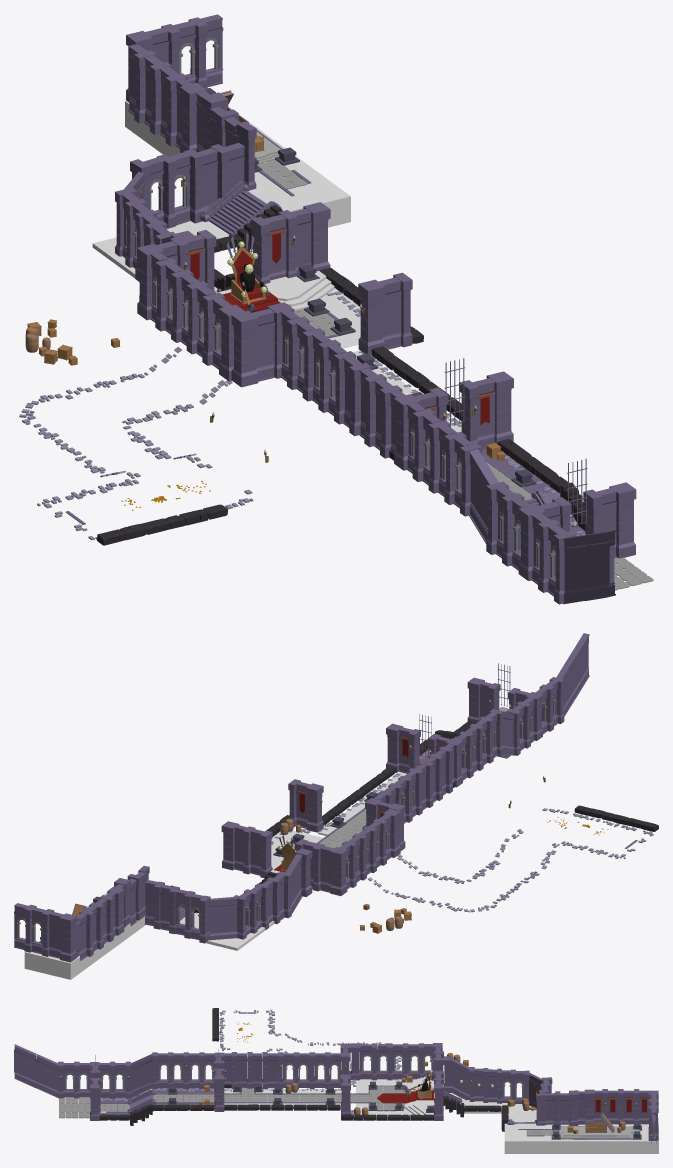
File: no_stairs_1lvl.glb
3 views of the same model, one above another, from view 1: azimuth 30°, elevation 25°; view 2: azimuth 150°, elevation 25°; view 3: azimuth 270°, elevation 25° (orthographic). The views are drawn at different scales.
Visible parts, largest first — view 1: Floor_Stone.050, Cube.005, Window.015, Steps.002, Window.021, Column.012, Column.005, Column.022, Column.010, P_Steps, Window.013, Column.000 (+32 smaller); view 2: Floor_Stone.050, Window.027, Cube.006, Window.021, Column.022, Column.016, Window.015, Column.026, Column.010, Column.005, Window.030, Column.017 (+9 smaller); view 3: Cube.005, Window.015, Floor_Stone.050, Cube.004, Cube.001, Window.013, Window.021, P_Treasure, Window.030, Cube, Cube.006, P_Steps (+50 smaller).
Part boxes in pixels (<box>): Floor_Stone.050: <box>19,291,616,558</box>; Cube.005: <box>248,155,350,227</box>; Window.015: <box>482,449,592,604</box>; Steps.002: <box>199,181,281,236</box>; Window.021: <box>585,530,615,600</box>; Column.012: <box>231,311,258,387</box>; Column.005: <box>486,481,524,566</box>; Column.022: <box>537,519,576,604</box>; Column.010: <box>358,279,385,355</box>; P_Steps: <box>216,271,334,310</box>; Window.013: <box>469,449,498,543</box>; Column.000: <box>609,482,636,558</box>; Floor_Stone.050: <box>271,750,653,912</box>; Window.027: <box>208,897,239,940</box>; Cube.006: <box>24,951,88,979</box>; Window.021: <box>570,633,589,698</box>; Column.022: <box>539,677,564,731</box>; Column.016: <box>330,847,347,895</box>; Window.015: <box>419,655,575,761</box>; Column.026: <box>59,913,76,962</box>; Column.010: <box>306,783,323,832</box>; Column.005: <box>506,701,530,755</box>; Window.030: <box>285,854,302,914</box>; Column.017: <box>221,821,239,870</box>; Cube.005: <box>504,1123,568,1153</box>; Window.015: <box>36,1054,214,1119</box>; Floor_Stone.050: <box>100,1009,412,1118</box>; Cube.004: <box>568,1124,631,1153</box>; Cube.001: <box>356,1079,429,1120</box>; Window.013: <box>130,1054,152,1097</box>; Window.021: <box>14,1044,36,1087</box>; P_Treasure: <box>559,1126,639,1138</box>; Window.030: <box>452,1059,469,1100</box>; Cube: <box>224,1089,341,1108</box>; Cube.006: <box>632,1123,658,1153</box>; P_Steps: <box>405,1075,434,1114</box>.
Bounding box in the file's own units: 62.52 × 13.15 × 123.
